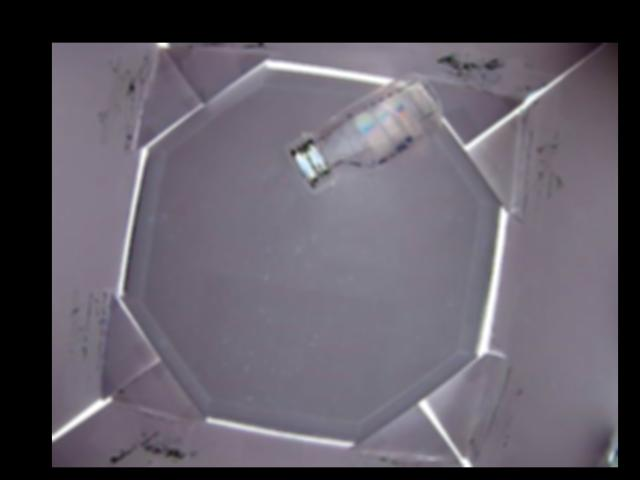Bottle: (283, 73, 443, 190)
